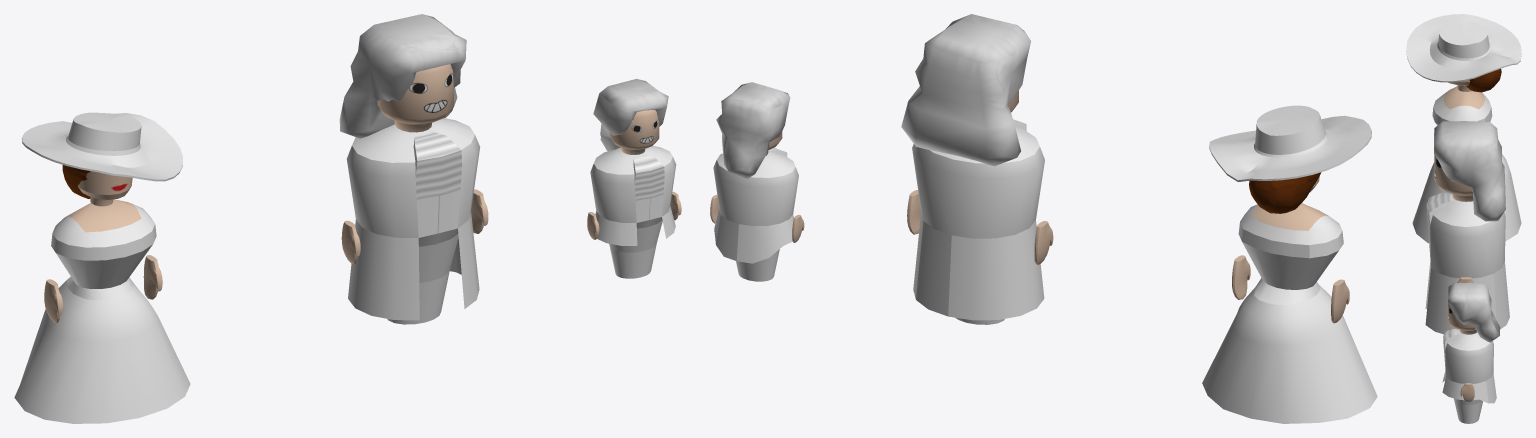
File: famiglia con texture.fbx
3 renders of one model, left to right at view 1: azimuth 30°, elevation 25°; view 2: azimuth 150°, elevation 25°; view 3: azimuth 270°, elevation 25°, orthographic. The views are drawn at different scales.
Visible parts, largest first — view 1: vestito donna, vestito uomo, testa uomo, CAPPELLO DONNA, vestito bambino, vestito uomo.001, testa bambino, vestito bambino.001, testa donna, corpo donna, mani donna, mani uomo; view 2: vestito donna, vestito uomo, testa uomo, CAPPELLO DONNA, vestito bambino, testa bambino, testa donna, mani donna, corpo donna, mani uomo, vestito bambino.001; view 3: vestito uomo, CAPPELLO DONNA, testa uomo, vestito bambino, vestito donna, testa bambino, vestito bambino.001, corpo donna, testa donna, vestito uomo.001, mani bambino.
Boxes of the visible parts, x1,y1,x2,y2 form: vestito donna: (14, 204, 190, 423); vestito uomo: (346, 118, 480, 320); testa uomo: (339, 14, 466, 138); CAPPELLO DONNA: (22, 112, 182, 181); vestito bambino: (590, 146, 676, 252); vestito uomo.001: (387, 129, 462, 324); testa bambino: (593, 79, 668, 154); vestito bambino.001: (609, 153, 664, 278); testa donna: (62, 165, 132, 206); corpo donna: (65, 199, 141, 232); mani donna: (44, 255, 162, 322); mani uomo: (341, 189, 488, 264); vestito donna: (1202, 204, 1377, 423); vestito uomo: (912, 127, 1044, 320); testa uomo: (901, 14, 1031, 166); CAPPELLO DONNA: (1209, 105, 1371, 181); vestito bambino: (713, 151, 798, 263); testa bambino: (716, 82, 790, 178); testa donna: (1249, 172, 1321, 213); mani donna: (1232, 255, 1349, 323); corpo donna: (1252, 203, 1328, 230); mani uomo: (907, 190, 1053, 264); vestito bambino.001: (736, 148, 787, 281); vestito uomo: (1425, 192, 1509, 334); CAPPELLO DONNA: (1406, 14, 1521, 82); testa uomo: (1434, 121, 1505, 221); vestito bambino: (1442, 328, 1496, 405); vestito donna: (1412, 90, 1521, 243); testa bambino: (1448, 282, 1500, 342); vestito bambino.001: (1443, 329, 1482, 423); corpo donna: (1443, 86, 1484, 109); testa donna: (1448, 68, 1501, 92); vestito uomo.001: (1426, 192, 1454, 265); mani bambino: (1460, 383, 1474, 401).
Size of the model in its own units: 5.3 by 2.3 by 1.14.
2 materials, 1 textured.
